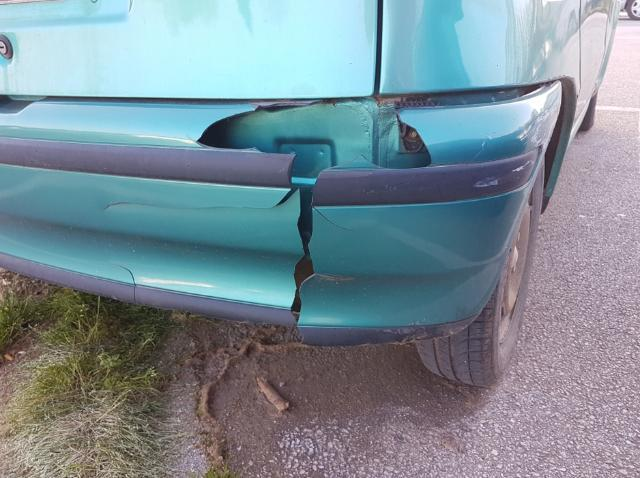Bumper: (47, 92, 603, 348)
